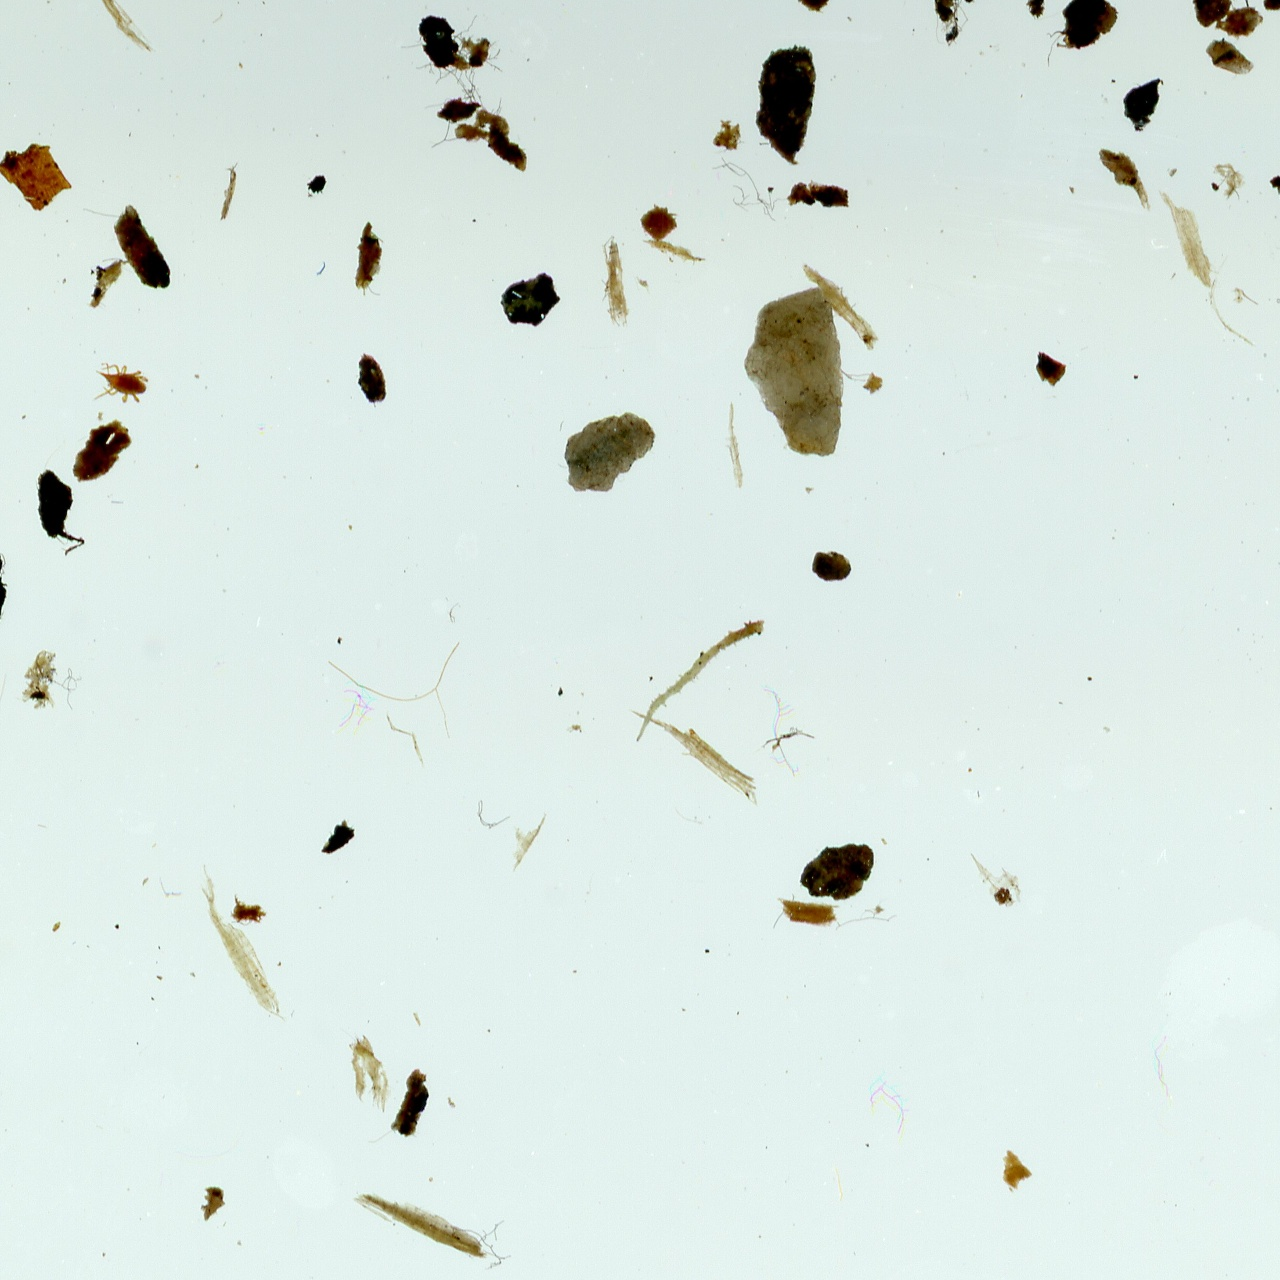arthropod: (89, 360, 150, 406)
